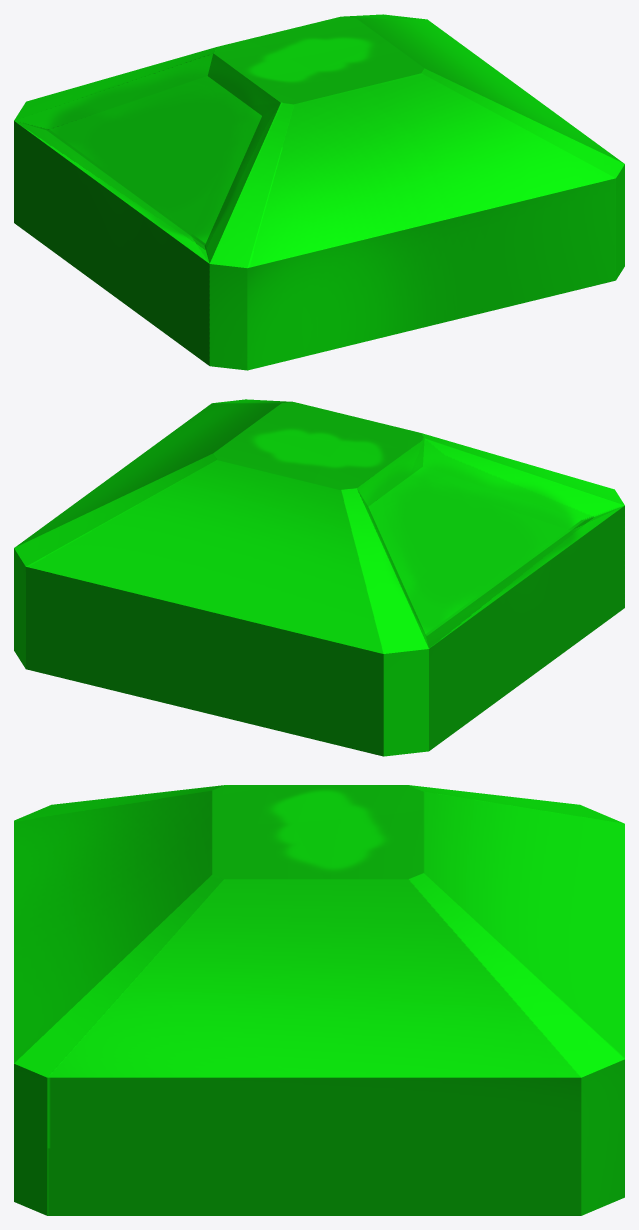
The model's file is ancient.obj.
3 views of the same model, one above another, from view 1: azimuth 30°, elevation 25°; view 2: azimuth 150°, elevation 25°; view 3: azimuth 270°, elevation 25° (orthographic). The views are drawn at different scales.
Parts seen in each view (by area): view 1: Cube; view 2: Cube; view 3: Cube.
Boxes of the visible parts, x1,y1,x2,y2 form: Cube: (14, 14, 624, 370); Cube: (14, 399, 624, 756); Cube: (14, 785, 624, 1215).
Size of the model in its own units: 8.47 by 3.58 by 8.01.
1 material, 1 textured.
